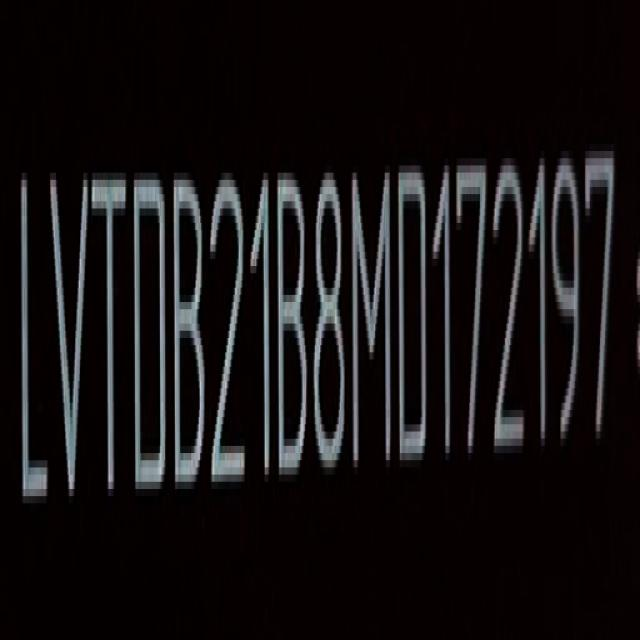1: (253, 173, 275, 497), (434, 163, 455, 474), (530, 151, 548, 463)
2: (211, 173, 249, 506), (494, 154, 529, 465)
7: (458, 152, 490, 472), (585, 149, 614, 465)
8: (313, 169, 346, 484)
9: (554, 153, 584, 460)
B: (175, 172, 210, 509), (277, 168, 310, 490)
D: (130, 163, 167, 509), (397, 156, 430, 474)
L: (14, 163, 48, 531)
M: (350, 158, 391, 478)
T: (96, 163, 127, 518)
V: (48, 160, 91, 522)
